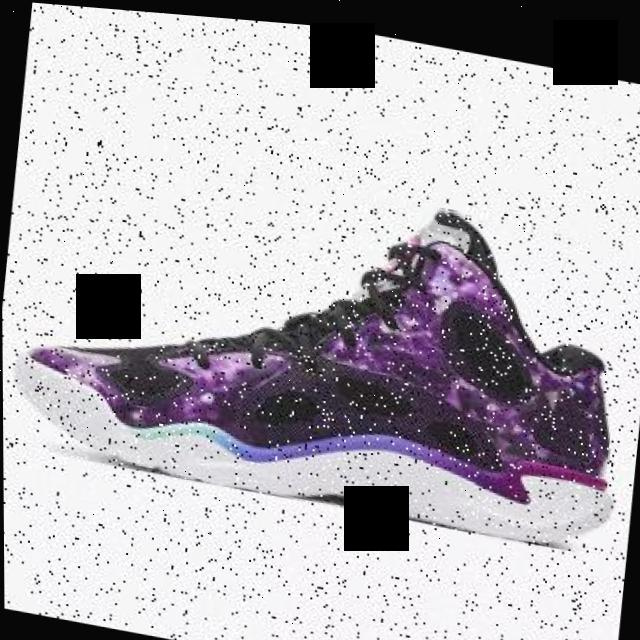shoe: (1, 127, 640, 550)
